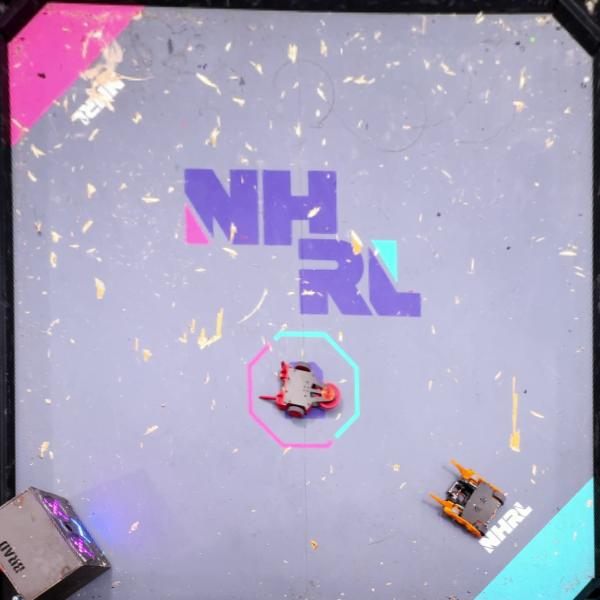housebot: (0, 486, 112, 600)
robot: (428, 458, 507, 539), (256, 361, 341, 420)
